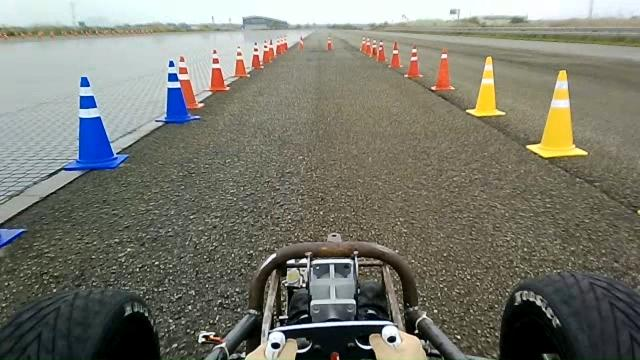blue cone: (62, 75, 129, 171), (154, 59, 201, 124)
red cone: (177, 55, 204, 109), (430, 48, 456, 91), (205, 48, 230, 92), (404, 42, 423, 78), (231, 45, 250, 78)
yellow cone: (526, 69, 588, 158), (465, 56, 506, 118)
